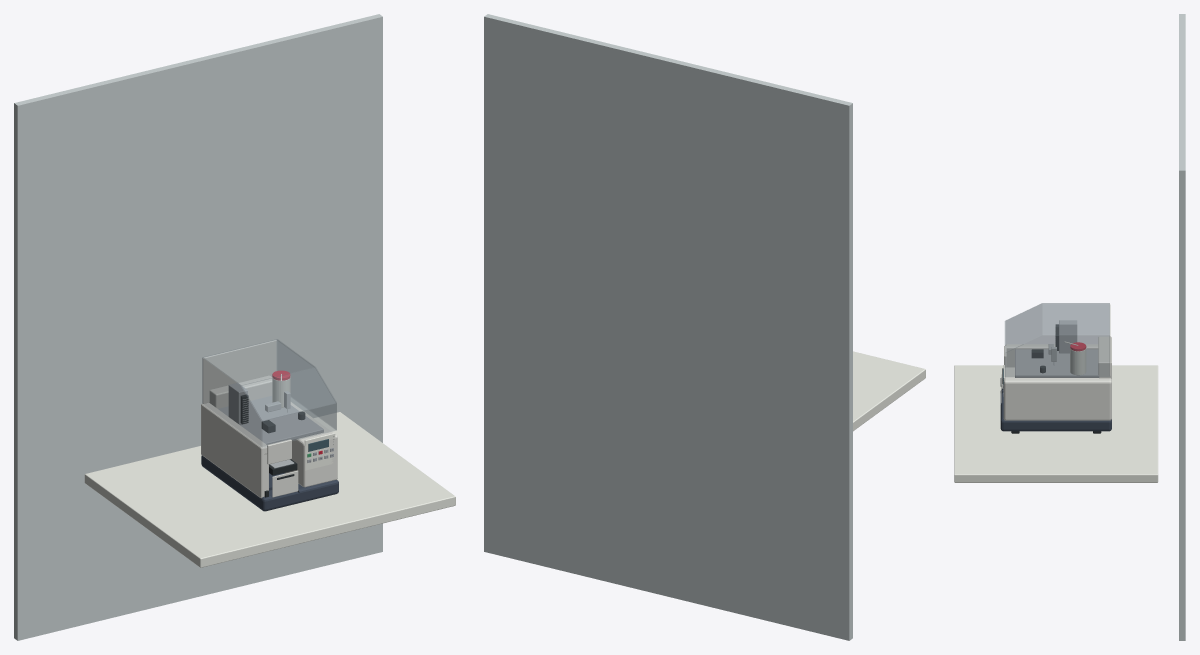
Rendered from cv5030-exterior.glb.
3 renders of one model, left to right at view 1: azimuth 30°, elevation 25°; view 2: azimuth 150°, elevation 25°; view 3: azimuth 270°, elevation 25°, orthographic. The views are drawn at different scales.
Visible parts, largest first — view 1: env.wall, env.bench, cv.body.left, cv.hood.slope, cv.hood.top, cv.hood.left, cv.hood.back, cv.hood.right, cv.body.deck, cv.hood.front, cv.base, cv.body.right (+2 smaller); view 2: env.wall, env.bench; view 3: env.bench, cv.body.right, env.wall, cv.hood.right, cv.hood.left, cv.hood.top, cv.body.deck, cv.base, cv.hood.slope, cv.body.back, cv.output-station, cv.body.left (+1 smaller).
Boxes of the visible parts, x1,y1,x2,y2 form: env.wall: [14, 14, 382, 640]; env.bench: [84, 412, 455, 567]; cv.body.left: [201, 403, 268, 498]; cv.hood.slope: [242, 367, 335, 420]; cv.hood.top: [203, 339, 314, 385]; cv.hood.left: [202, 357, 261, 447]; cv.hood.back: [202, 340, 276, 403]; cv.hood.right: [277, 339, 336, 429]; cv.body.deck: [218, 396, 323, 444]; cv.hood.front: [262, 403, 336, 447]; cv.base: [201, 455, 338, 511]; cv.body.right: [284, 402, 337, 487]; env.wall: [484, 14, 852, 640]; env.bench: [853, 351, 925, 431]; env.bench: [954, 365, 1158, 482]; cv.body.right: [1003, 367, 1111, 420]; env.wall: [1179, 14, 1185, 640]; cv.hood.right: [1005, 335, 1109, 376]; cv.hood.left: [1006, 303, 1109, 343]; cv.hood.top: [1043, 303, 1109, 335]; cv.body.deck: [1015, 349, 1099, 377]; cv.base: [1000, 388, 1111, 431]; cv.hood.slope: [1005, 303, 1042, 352]; cv.body.back: [1098, 336, 1111, 379]; cv.output-station: [1059, 320, 1077, 353]; cv.body.left: [1005, 344, 1098, 367].
Size of the model in its own units: 2 by 2.8 by 1.25.
